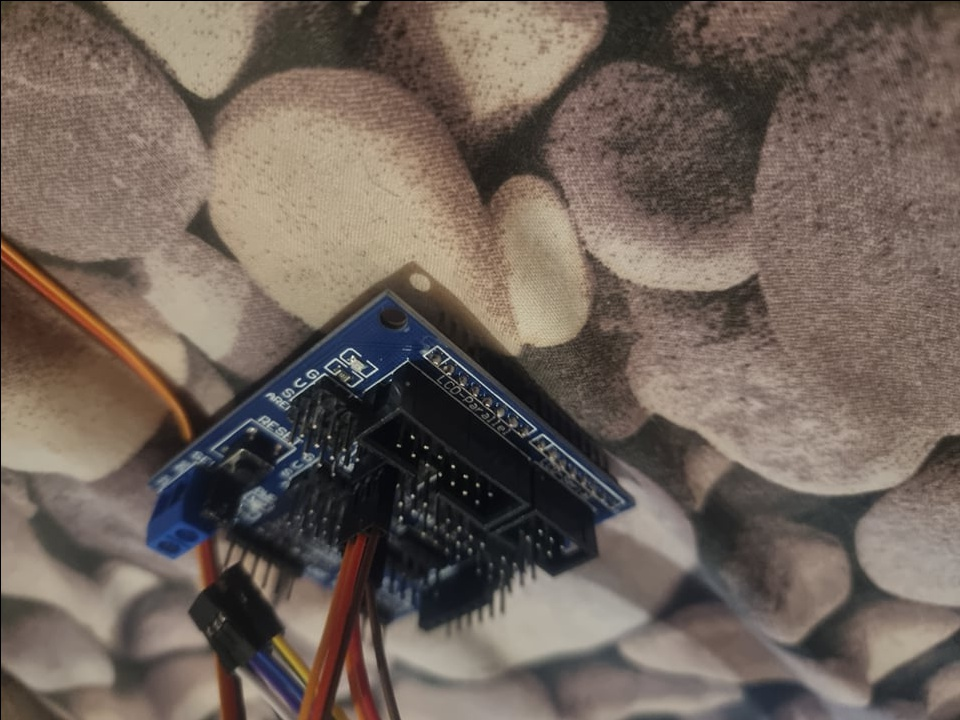5V EXPANSION: (145, 285, 638, 646)
